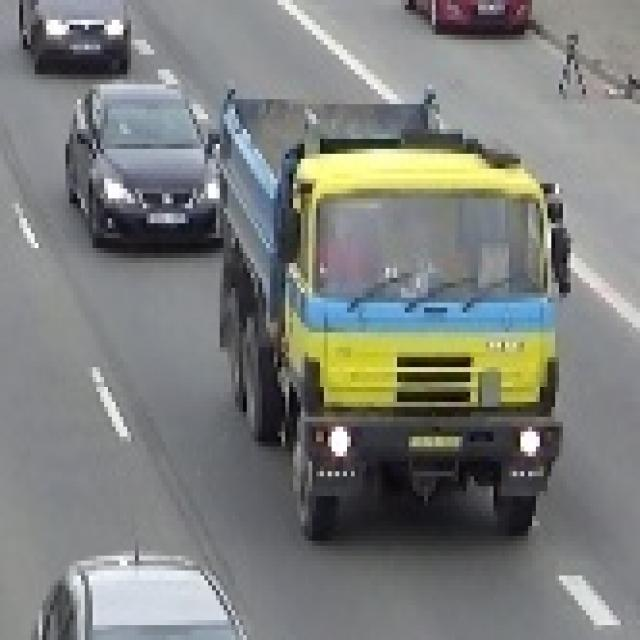truck: (200, 84, 567, 536)
